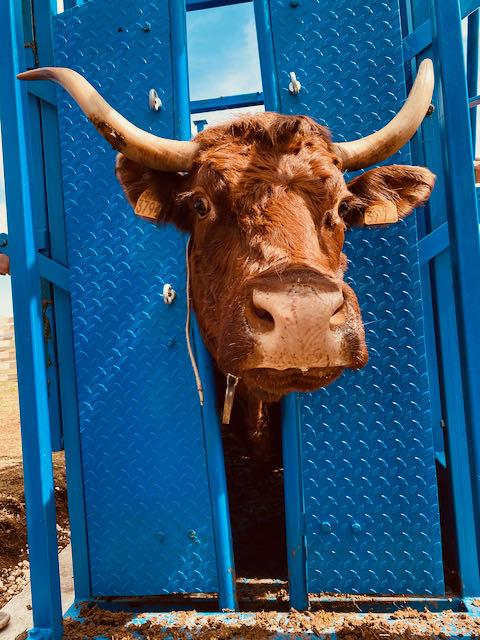muzzles: (206, 278, 373, 397)
